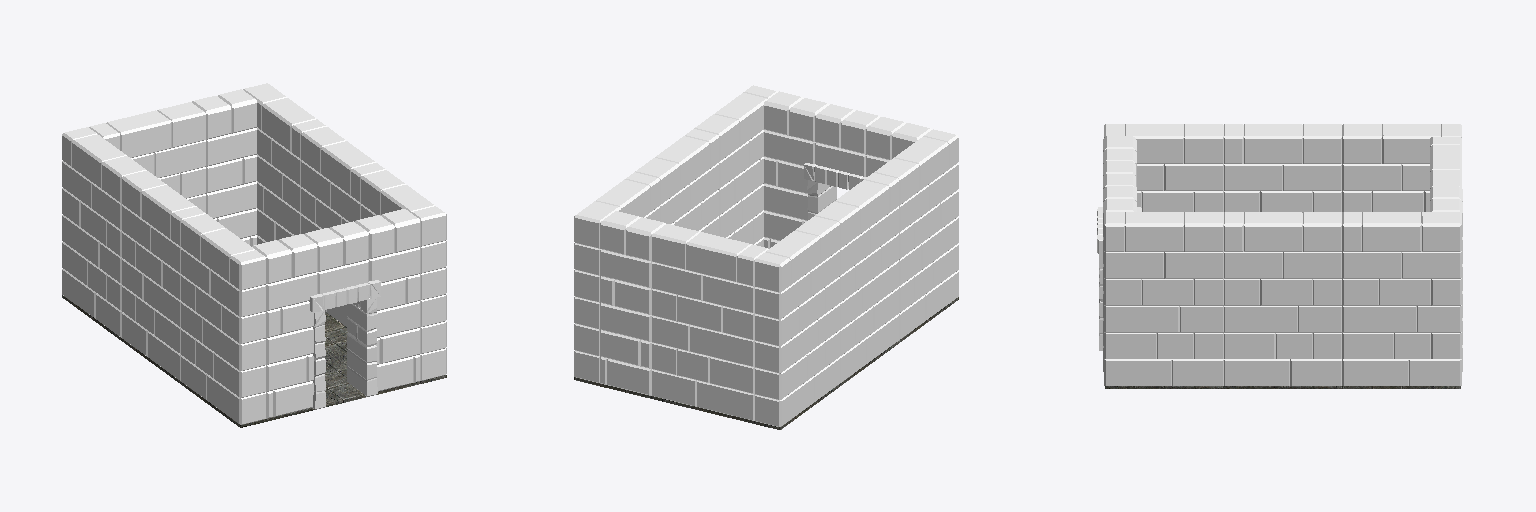
The picture shows the model from 3 angles: view 1: azimuth 30°, elevation 25°; view 2: azimuth 150°, elevation 25°; view 3: azimuth 270°, elevation 25°; orthographic projection.
Visible parts, largest first — view 1: Box3455, Box3456, Box4139, Box001ui003, Box001ui002, Box001ui, Box3458, Box4132, Box3457, Box4138, Box4133, Box4135 (+6 smaller); view 2: Box4132, Box3456, Box3455, Box4139, Box001ui, Box3457, Box001ui002, Box3458, Box4138, Box4133, Box001ui003, Box4135 (+1 smaller); view 3: Box3457, Box3458, Box4138, Box4139, Box3456, Box3455, Box4132, Box001ui002, Box001ui, Box001ui003, Box4133.
Boxes of the visible parts, x1=… form: Box3455: x1=181, y1=214, x2=265, y2=424; Box3456: x1=62, y1=127, x2=146, y2=337; Box4139: x1=122, y1=171, x2=205, y2=380; Box001ui003: x1=252, y1=234, x2=317, y2=418; Box001ui002: x1=355, y1=209, x2=420, y2=391; Box001ui: x1=192, y1=89, x2=256, y2=246; Box3458: x1=243, y1=83, x2=326, y2=244; Box4132: x1=89, y1=102, x2=205, y2=212; Box3457: x1=361, y1=170, x2=446, y2=380; Box4138: x1=301, y1=127, x2=385, y2=326; Box4133: x1=304, y1=221, x2=368, y2=293; Box4135: x1=347, y1=298, x2=377, y2=396; Box4132: x1=652, y1=224, x2=768, y2=420; Box3456: x1=755, y1=216, x2=839, y2=426; Box3455: x1=874, y1=129, x2=958, y2=339; Box4139: x1=815, y1=173, x2=898, y2=382; Box001ui: x1=600, y1=211, x2=665, y2=395; Box3457: x1=694, y1=85, x2=777, y2=246; Box001ui002: x1=764, y1=91, x2=829, y2=248; Box3458: x1=574, y1=172, x2=659, y2=382; Box4138: x1=635, y1=129, x2=718, y2=235; Box4133: x1=815, y1=104, x2=879, y2=176; Box001ui003: x1=866, y1=117, x2=931, y2=176; Box4135: x1=807, y1=180, x2=836, y2=220; Box3457: x1=1104, y1=212, x2=1223, y2=385; Box3458: x1=1342, y1=212, x2=1461, y2=385; Box4138: x1=1224, y1=212, x2=1341, y2=385; Box4139: x1=1224, y1=124, x2=1341, y2=211; Box3456: x1=1342, y1=124, x2=1461, y2=211; Box3455: x1=1104, y1=124, x2=1223, y2=211; Box4132: x1=1430, y1=137, x2=1461, y2=188; Box001ui002: x1=1103, y1=186, x2=1136, y2=371; Box001ui: x1=1430, y1=186, x2=1462, y2=371; Box001ui003: x1=1103, y1=136, x2=1136, y2=189; Box4133: x1=1103, y1=161, x2=1135, y2=188.
Bounding box in the file's own units: 4.04 × 3.08 × 6.16.
Materials: 2 (1 with a texture image).